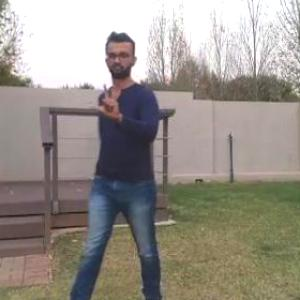land_hand: (85, 82, 123, 126)
